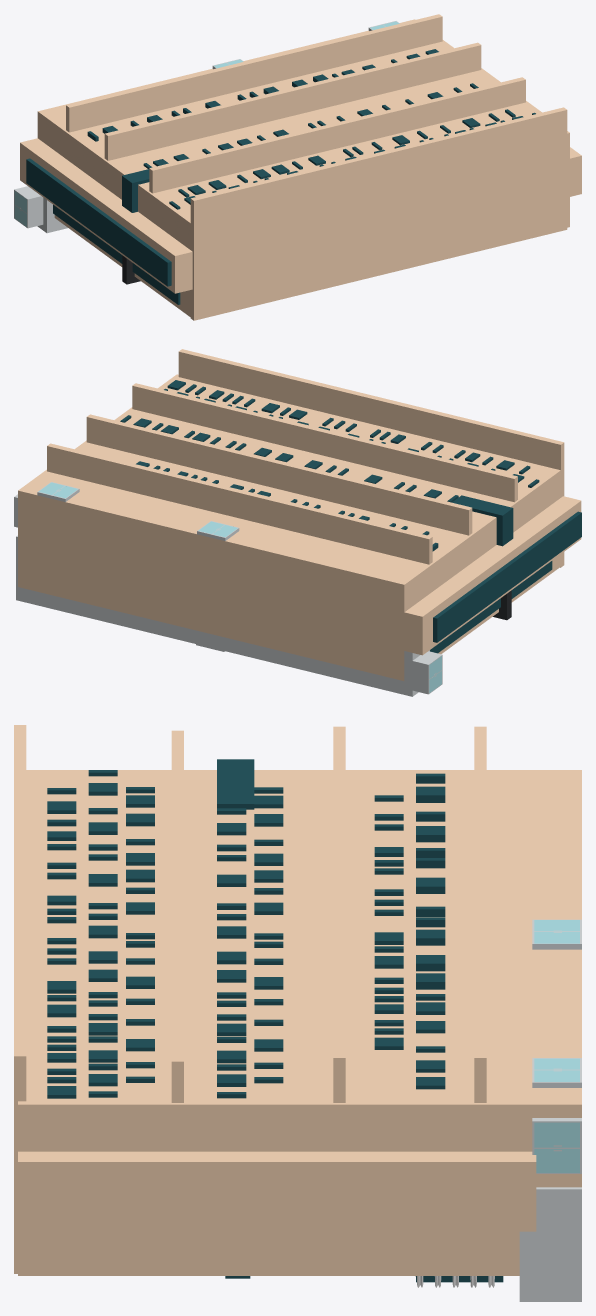
The model's file is tinker.obj.
3 renders of one model, top to bottom at view 1: azimuth 30°, elevation 25°; view 2: azimuth 150°, elevation 25°; view 3: azimuth 270°, elevation 25°, orthographic. The views are drawn at different scales.
Visible parts, largest first — view 1: group_0_16768187, group_0_1855578, group_0_14541540, group_0_11593967; view 2: group_0_16768187, group_0_1855578, group_0_14541540, group_0_11593967; view 3: group_0_16768187, group_0_1855578, group_0_14541540, group_0_11593967.
Boxes of the visible parts, box(x1,y1,x2,y2) form: group_0_16768187: box(20, 14, 581, 320); group_0_1855578: box(26, 49, 535, 304); group_0_14541540: box(14, 21, 399, 233); group_0_11593967: box(14, 21, 399, 226); group_0_16768187: box(18, 349, 581, 680); group_0_1855578: box(120, 380, 581, 653); group_0_14541540: box(14, 482, 442, 696); group_0_11593967: box(39, 482, 441, 692); group_0_16768187: box(14, 725, 581, 1275); group_0_1855578: box(47, 759, 503, 1282); group_0_14541540: box(519, 919, 581, 1301); group_0_11593967: box(534, 920, 579, 1172).
Bounding box in the file's own units: 209 × 64.52 × 137.
